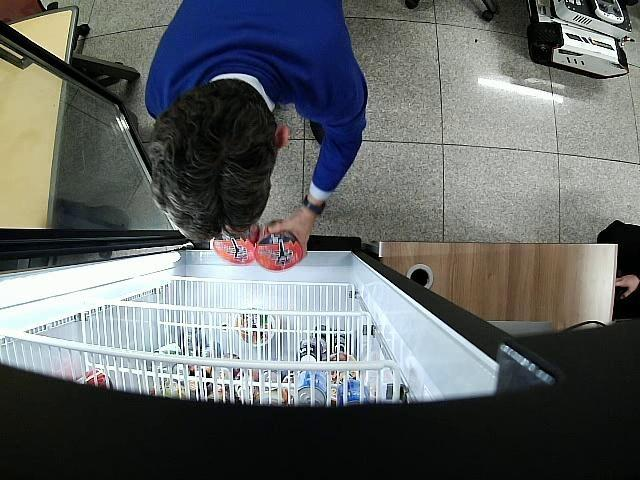01_ShinRamen_L: (254, 220, 304, 272)
